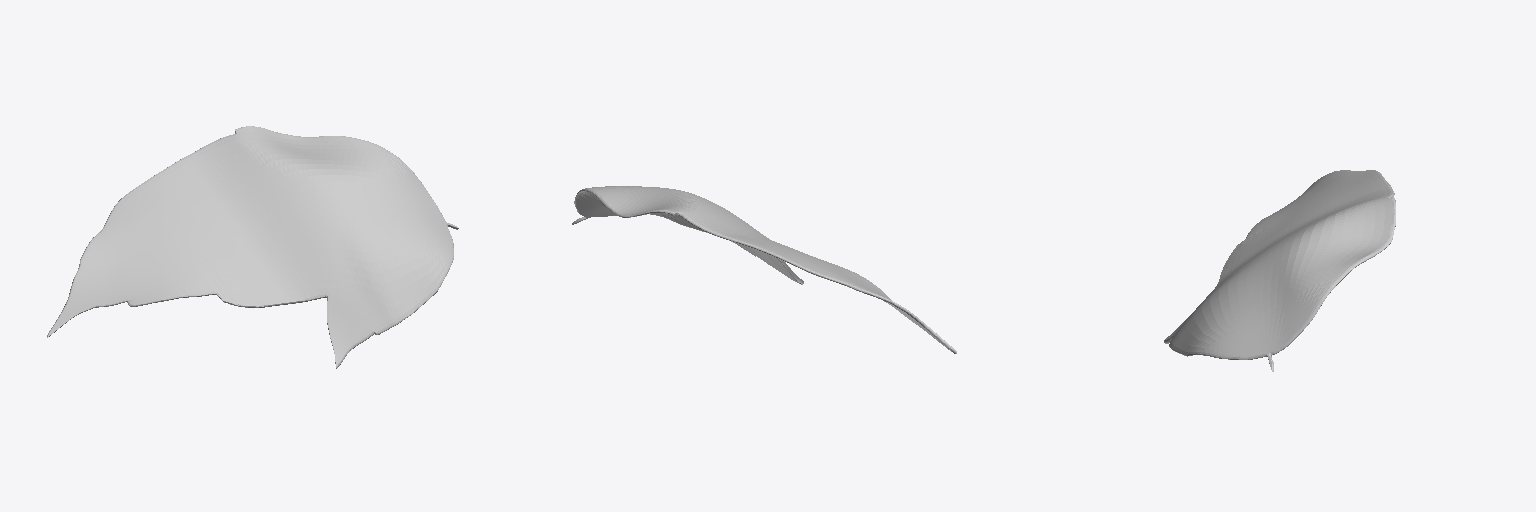
Rendered from Leaf_a_24a.obj.
3 renders of one model, left to right at view 1: azimuth 30°, elevation 25°; view 2: azimuth 150°, elevation 25°; view 3: azimuth 270°, elevation 25°, orthographic.
Parts seen in each view (by area): view 1: Plane; view 2: Plane; view 3: Plane.
Boxes of the visible parts, <box> form: Plane: <box>47,126,458,368</box>; Plane: <box>572,186,956,353</box>; Plane: <box>1164,170,1395,371</box>.
Bounding box in the file's own units: 4.44 × 1.62 × 2.25.